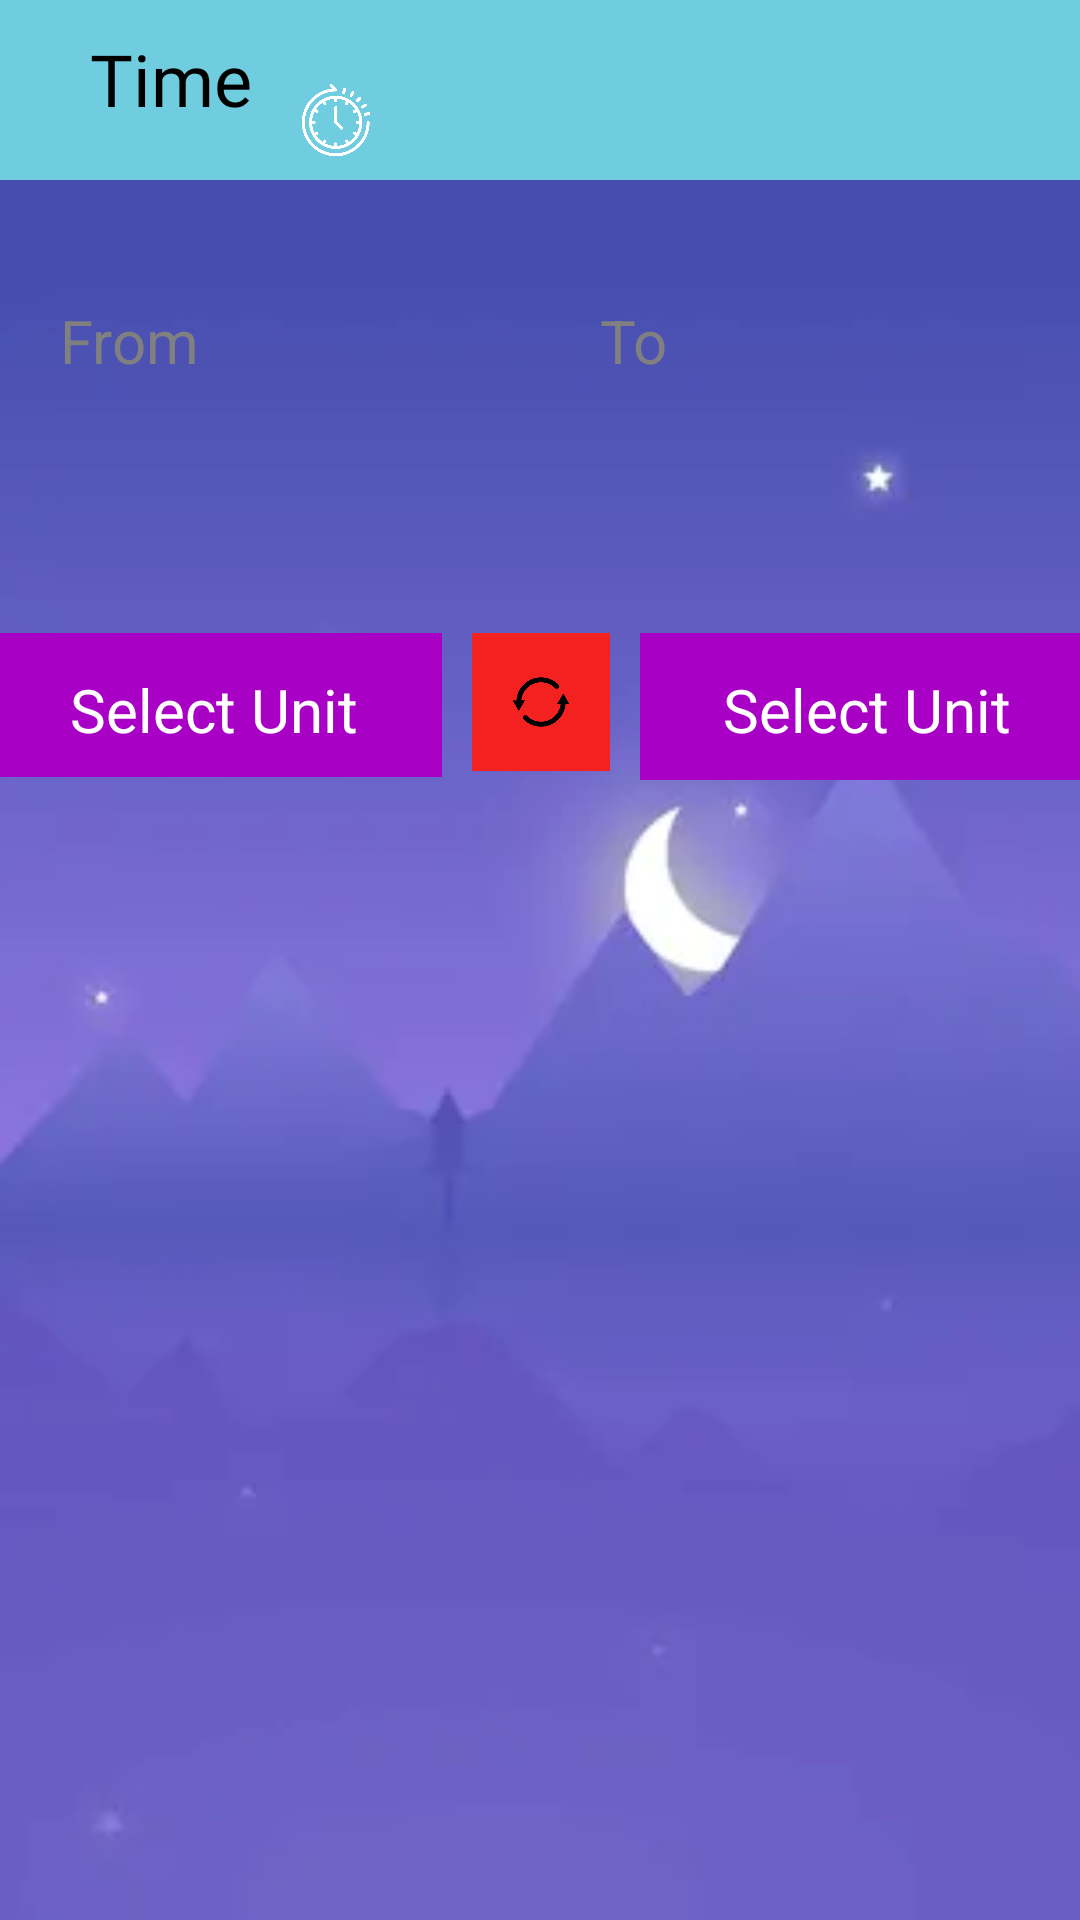

Named icons in this screenshot (1080px x 1920px) and their bounding boxes, bbox(x1, y1, x2, y2):
convert: bbox(513, 677, 569, 727)
